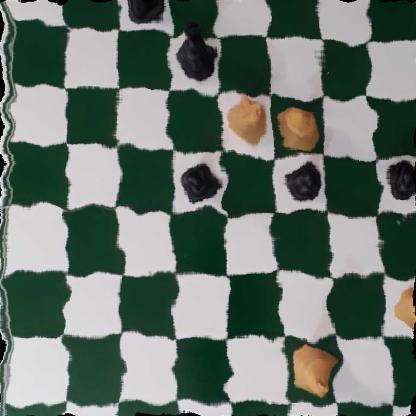black-king: (174, 20, 217, 84)
black-pawn: (285, 158, 321, 209), (180, 161, 216, 208), (381, 158, 416, 202)
black-rook: (120, 0, 172, 25)
white-bishop: (274, 106, 319, 157)
white-king: (287, 336, 334, 400)
white-pawn: (394, 282, 416, 330)
white-rook: (226, 93, 271, 145)
